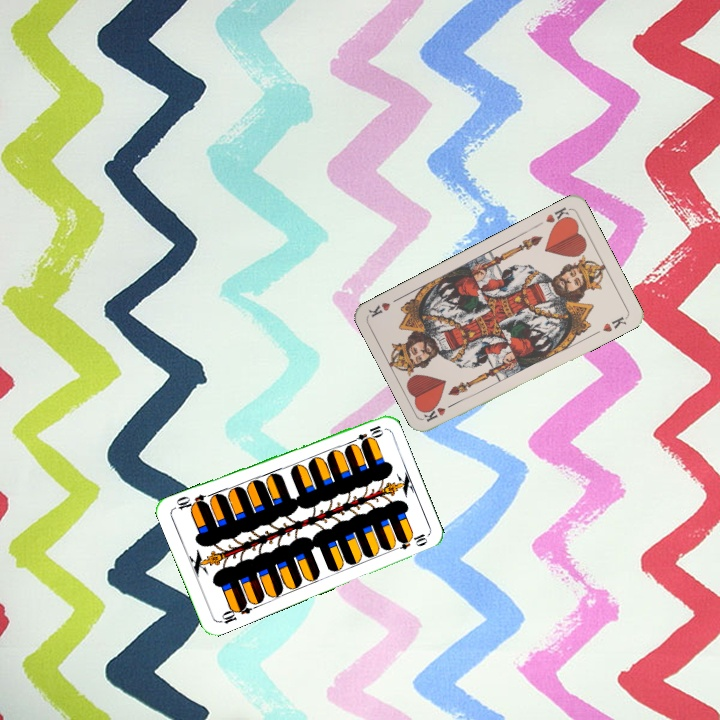E10: (215, 598, 254, 626), (346, 421, 385, 446)
HK: (534, 203, 574, 230), (421, 398, 460, 424)
